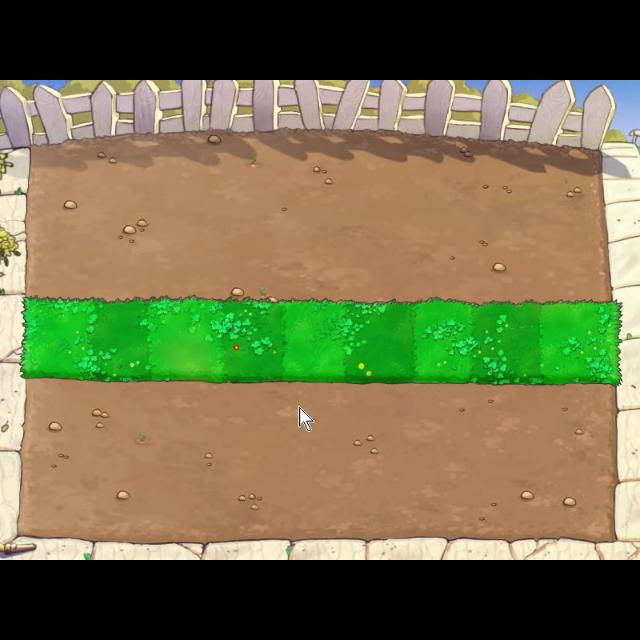Garden: (16, 292, 624, 390)
